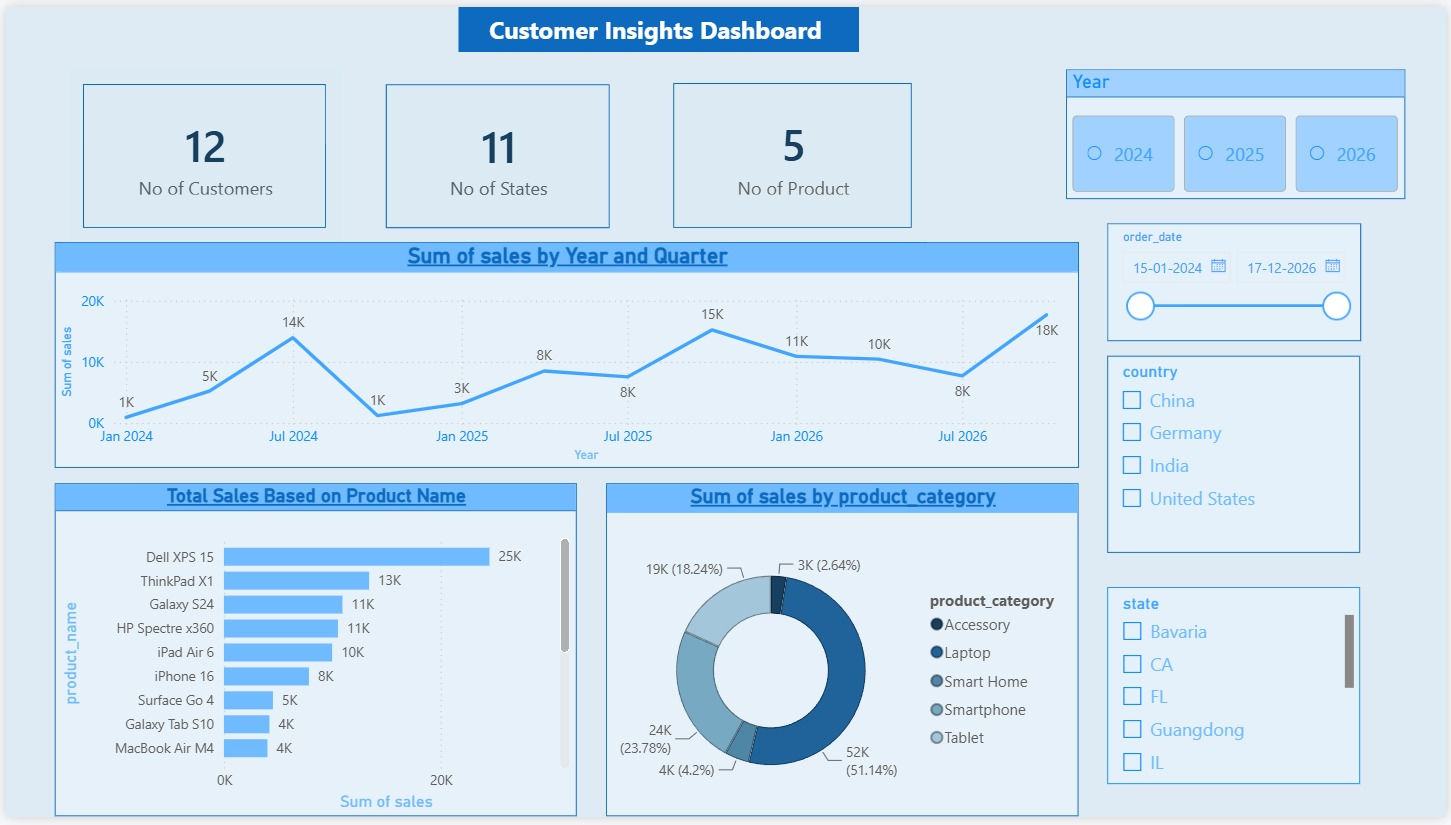

What the dashboard file says about the page in this screenshot:
{"tool":"powerbi","page":{"name":"Page 1","canvas":[1280,720],"ordinal":0},"visuals":[{"type":"textbox","box":[402.5,0,356.2,40],"z":0},{"type":"clusteredBarChart","title":"Total Sales Based on Product Name","fields":{"Category":["orders.product_name"],"Y":["Sum(orders.sales)"]},"box":[43.8,423.8,463.8,296.2],"z":1000},{"type":"cardVisual","fields":{"Data":["Count(customers.state)"]},"box":[325,56.2,223.8,152.5],"z":2000},{"type":"cardVisual","fields":{"Data":["Count(customers.customer_id)"]},"box":[55.6,55.6,242.2,154.4],"z":3000},{"type":"cardVisual","fields":{"Data":["Count(orders.product_category)"]},"box":[581.2,55,236.2,153.8],"z":4000},{"type":"slicer","fields":{"Values":["customers.country"]},"box":[978.3,310,225,175],"z":5000},{"type":"donutChart","fields":{"Y":["Sum(orders.sales)"],"Series":["orders.product_category"]},"box":[533.8,423.8,420,295.7],"z":6000},{"type":"lineChart","fields":{"Y":["Sum(orders.sales)"],"Category":["orders.order_date.Variation.Date Hierarchy.Year","orders.order_date.Variation.Date Hierarchy.Quarter","orders.order_date.Variation.Date Hierarchy.Month","orders.order_date.Variation.Date Hierarchy.Day"]},"box":[43.3,208.9,910,201.1],"z":7000},{"type":"slicer","fields":{"Values":["customers.state"]},"box":[978.3,515,225,175],"z":8000},{"type":"slicer","fields":{"Values":["orders.order_date"]},"box":[978.3,191.7,225.6,104.4],"z":9000},{"type":"advancedSlicerVisual","fields":{"Values":["orders.Year"]},"box":[941.7,55,301.7,115],"z":10000}]}

Visuals, with their boxes in screenshot pixels (x1, y1, x2, y2), scaled from the page's 1280x720 canvas onto the 1451x825 screenshot:
textbox: <bbox>456, 0, 860, 46</bbox>
"Total Sales Based on Product Name" clusteredBarChart: <bbox>50, 486, 575, 824</bbox>
cardVisual - Count(customers.state): <bbox>368, 64, 622, 239</bbox>
cardVisual - Count(customers.customer_id): <bbox>63, 64, 338, 241</bbox>
cardVisual - Count(orders.product_category): <bbox>659, 63, 927, 239</bbox>
slicer - customers.country: <bbox>1109, 355, 1364, 556</bbox>
donutChart - Sum(orders.sales) x orders.product_category: <bbox>605, 486, 1081, 824</bbox>
lineChart - Sum(orders.sales) x orders.order_date.Variation.Date Hierarchy.Year: <bbox>49, 239, 1081, 470</bbox>
slicer - customers.state: <bbox>1109, 590, 1364, 791</bbox>
slicer - orders.order_date: <bbox>1109, 220, 1365, 339</bbox>
advancedSlicerVisual - orders.Year: <bbox>1068, 63, 1410, 195</bbox>
